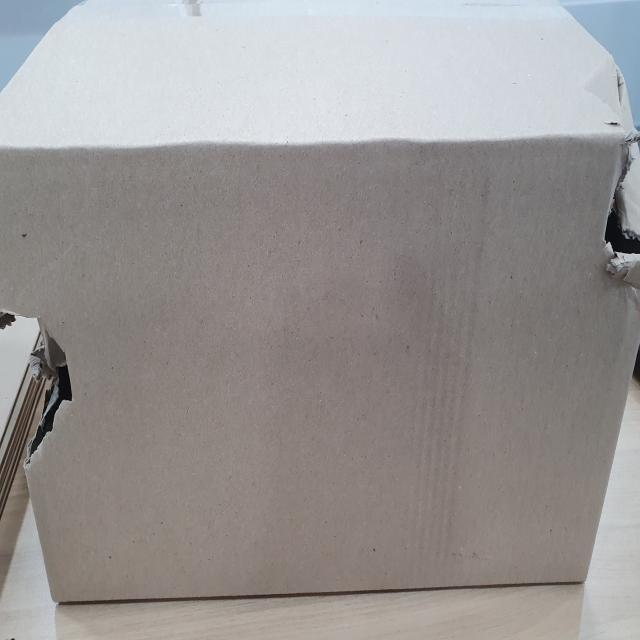hole: (8, 302, 80, 470), (599, 54, 640, 321)
